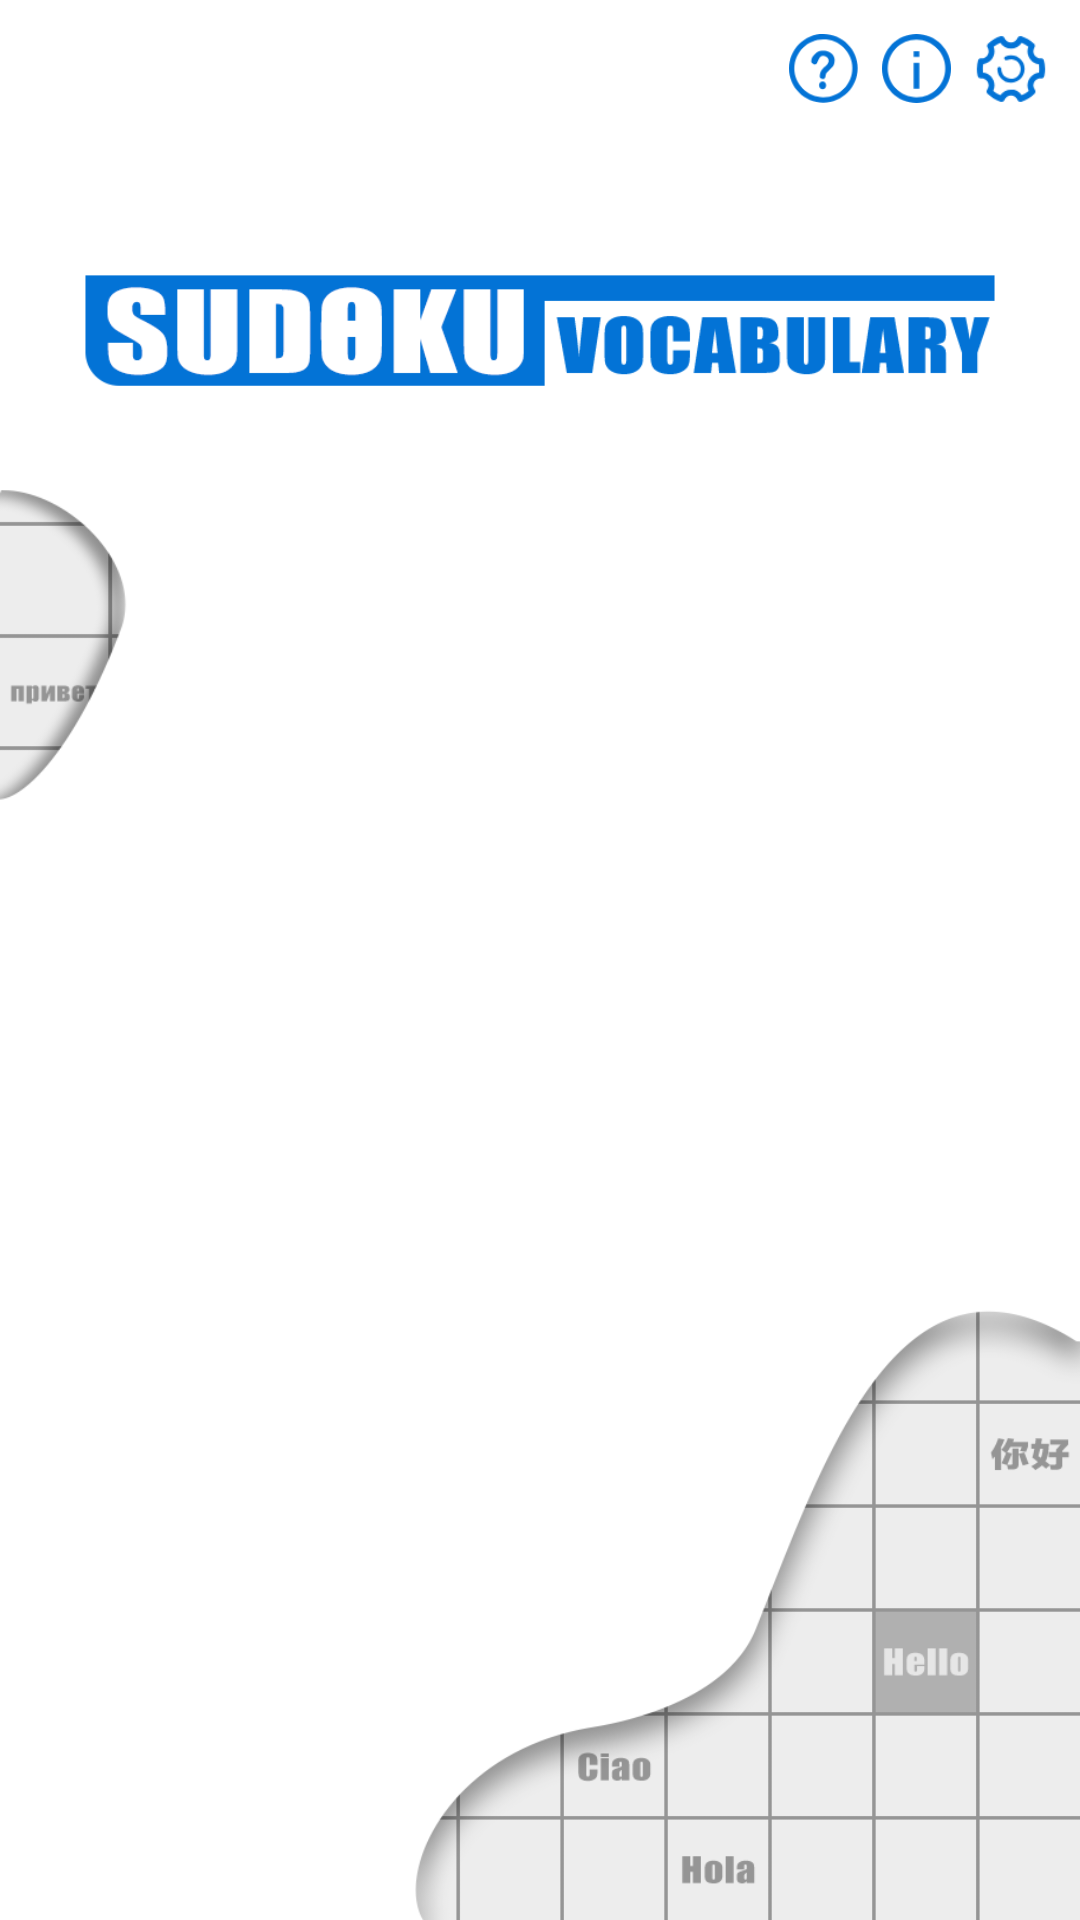

Locate icon controls on the screen. Image size 1080px x 1920px, boxes as BBox(x1, y1, x2, y2).
about: BBox(882, 34, 951, 103)
help: BBox(789, 34, 858, 103)
settings: BBox(976, 36, 1046, 102)
